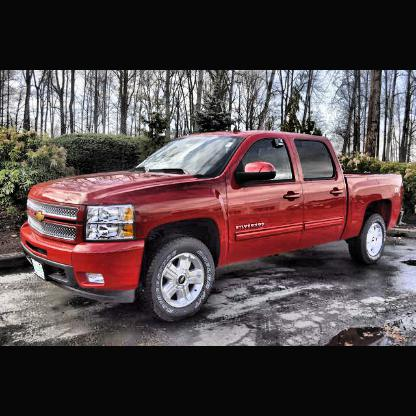Chevrolet Silverado 1500 Hybrid Crew Cab 2012: (22, 132, 404, 319)
